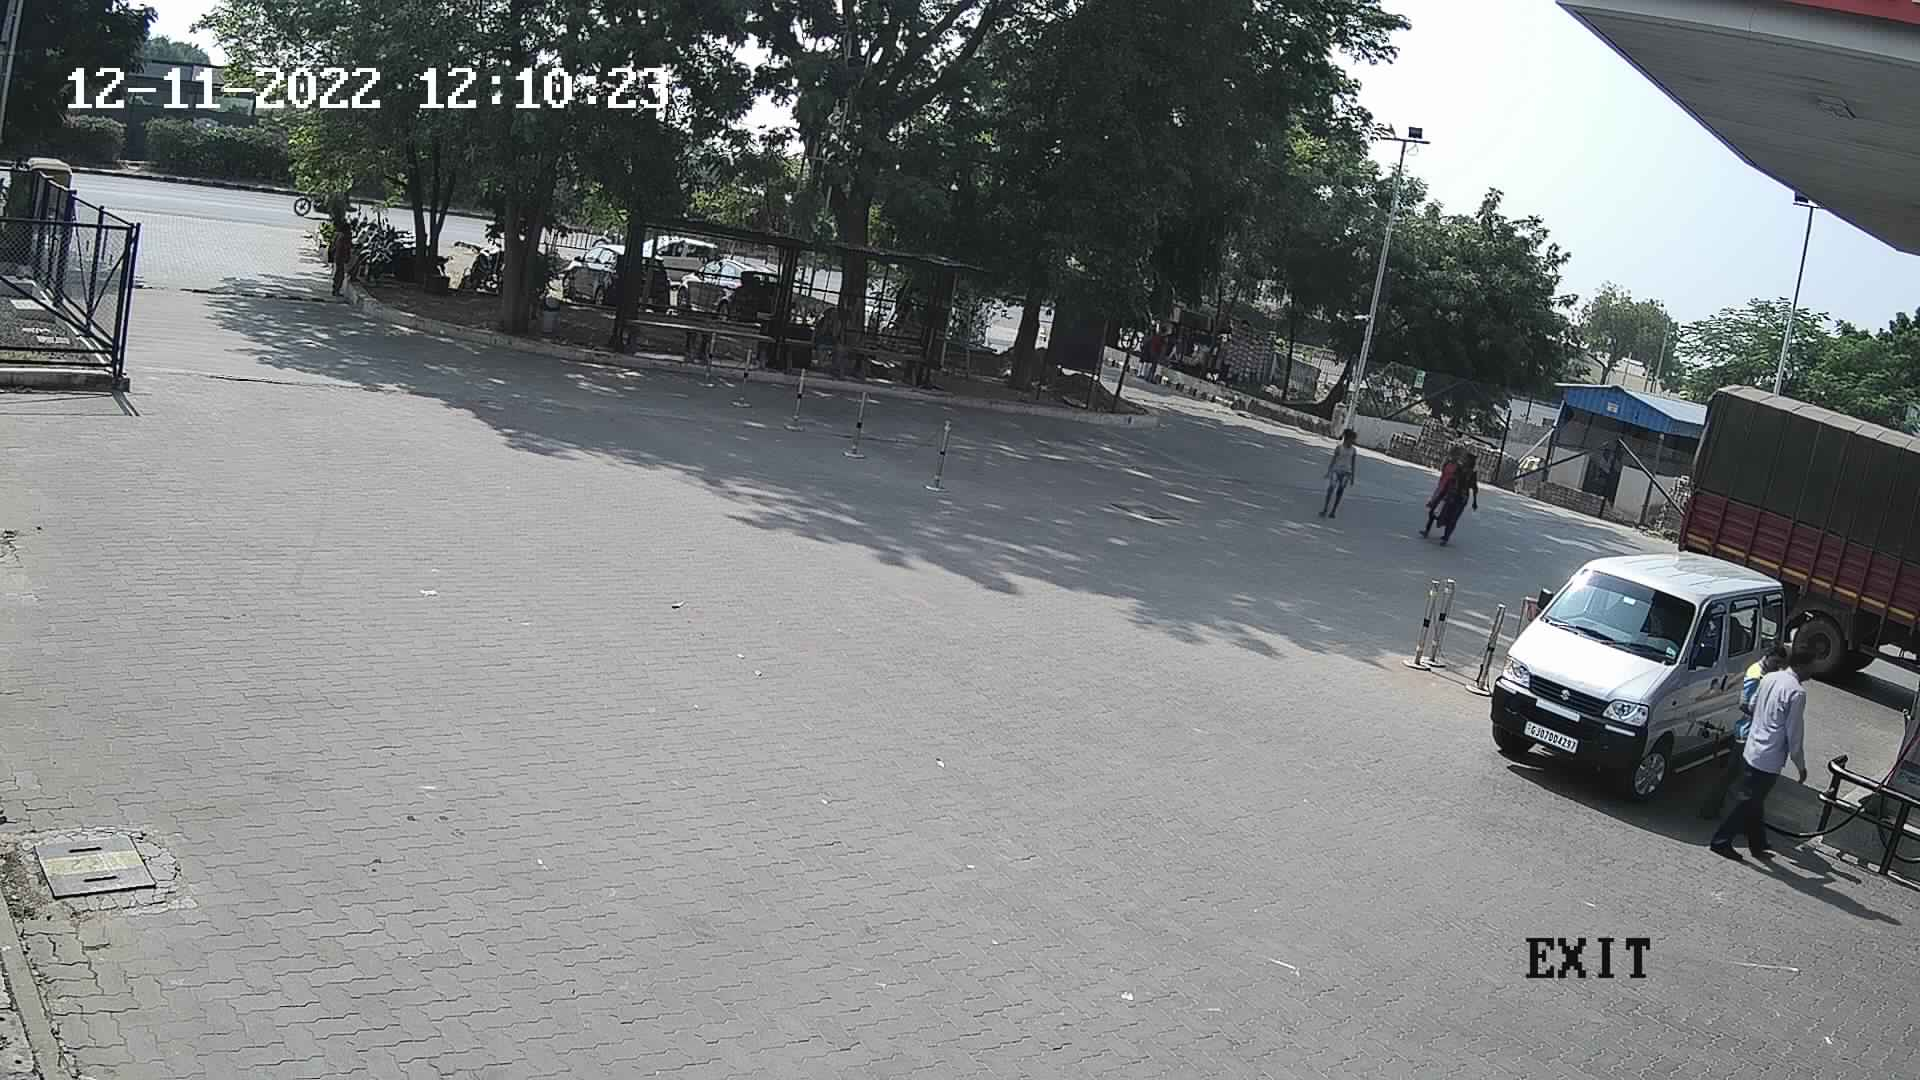Auto: (4, 142, 91, 237)
Car: (1484, 535, 1799, 807), (676, 248, 789, 320), (556, 229, 636, 313), (644, 225, 731, 295)
HMV: (1655, 375, 1920, 728)
Others: (1693, 638, 1789, 824)
